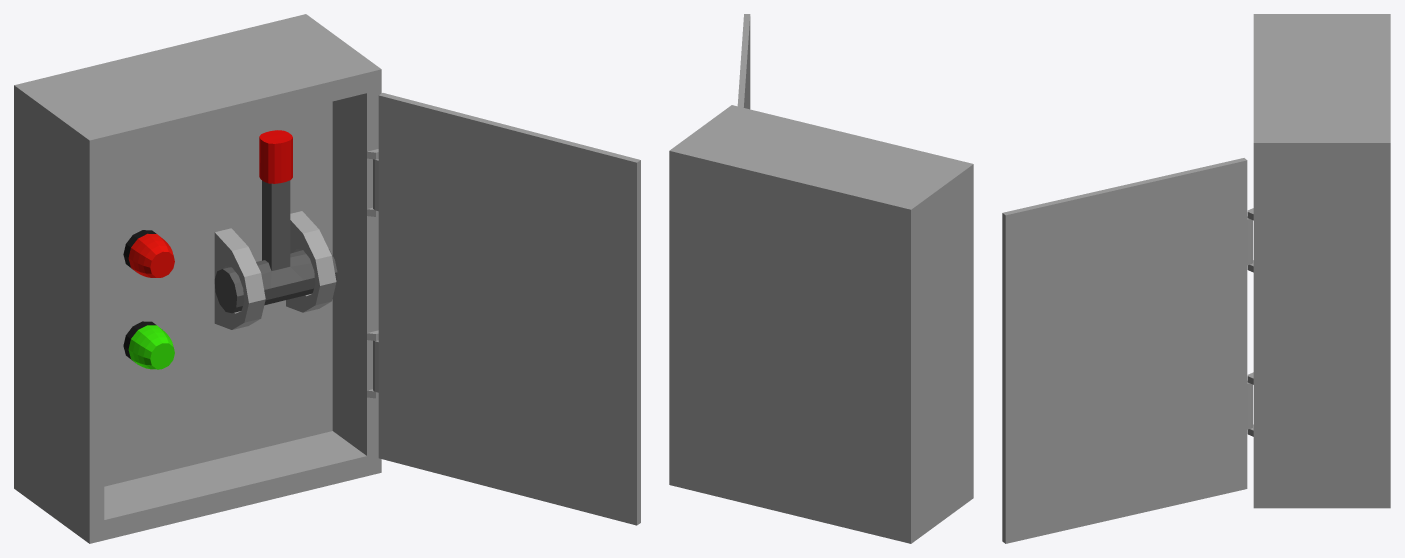
Rendered from Control Panel.fbx.
3 renders of one model, left to right at view 1: azimuth 30°, elevation 25°; view 2: azimuth 150°, elevation 25°; view 3: azimuth 270°, elevation 25°, orthographic. The views are drawn at different scales.
Parts seen in each view (by area): view 1: Elec Cupboard, Elec Door, Handle, Green Light, Red Light; view 2: Elec Cupboard, Elec Door; view 3: Elec Door, Elec Cupboard.
Boxes of the visible parts, x1,y1,x2,y2 form: Elec Cupboard: (14,14,381,543); Elec Door: (373,93,640,525); Handle: (214,130,337,313); Green Light: (128,325,174,369); Red Light: (128,233,174,277); Elec Cupboard: (669,105,973,543); Elec Door: (737,14,750,109); Elec Door: (1002,158,1252,543); Elec Cupboard: (1247,14,1390,508).
Size of the model in its own units: 215 by 200 by 193.
